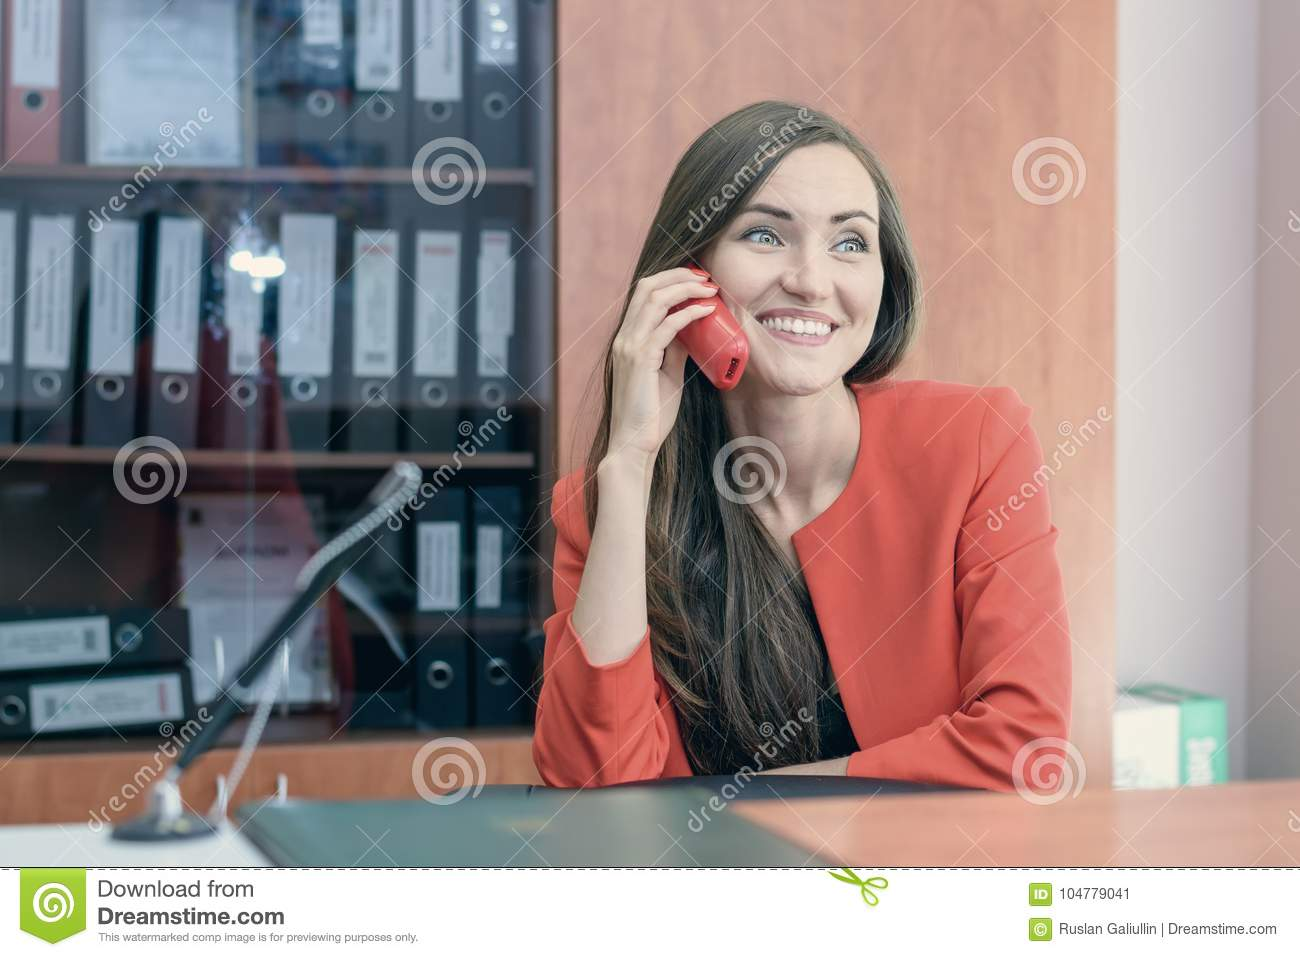phone: (669, 255, 757, 408)
talk: (606, 189, 877, 474)
